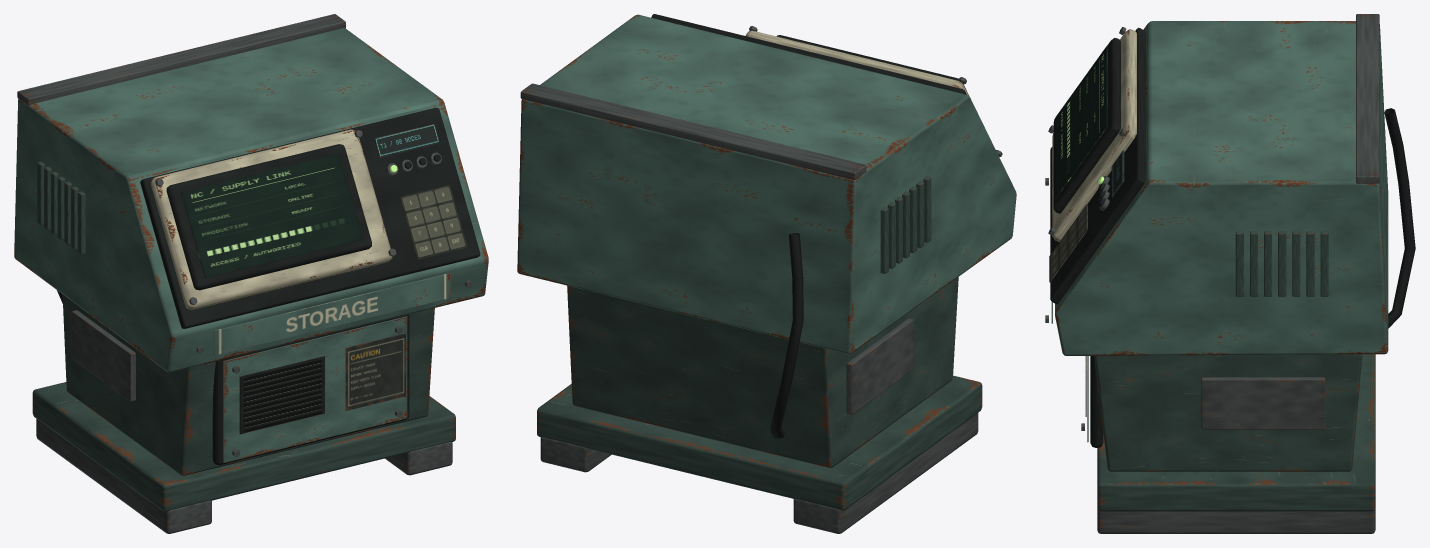
The model's file is NC_Storage_T1.fbx.
3 views of the same model, side by side, from view 1: azimuth 30°, elevation 25°; view 2: azimuth 150°, elevation 25°; view 3: azimuth 270°, elevation 25° (orthographic). The views are drawn at different scales.
Parts seen in each view (by area): view 1: NC_Storage_T1_LOD0; view 2: NC_Storage_T1_LOD0; view 3: NC_Storage_T1_LOD0.
Boxes of the visible parts, bbox=[...] form: NC_Storage_T1_LOD0: bbox=[14, 14, 488, 533]; NC_Storage_T1_LOD0: bbox=[517, 14, 1016, 533]; NC_Storage_T1_LOD0: bbox=[1045, 14, 1415, 533].
Size of what is drawn, in the model's own units: 0.925 by 0.947 by 0.8654.
Materials: 1 (1 with a texture image).
